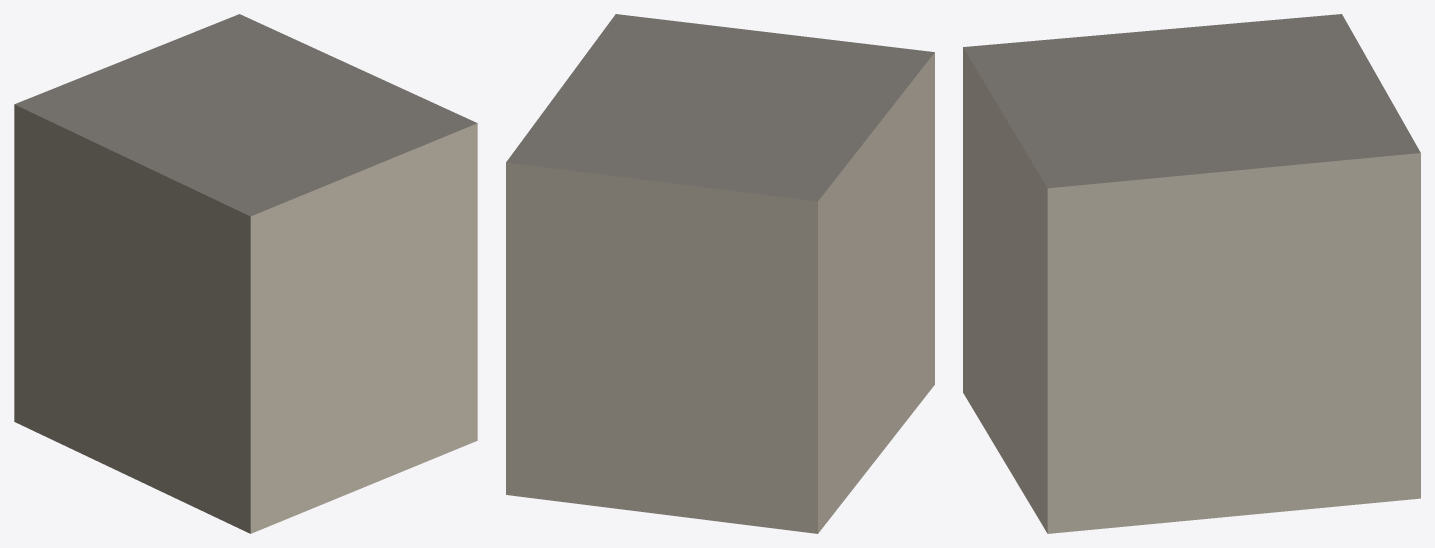
The picture shows the model from 3 angles, left to right: view 1: azimuth 30°, elevation 25°; view 2: azimuth 150°, elevation 25°; view 3: azimuth 270°, elevation 25°; orthographic projection. The views are drawn at different scales.
Parts seen in each view (by area): view 1: HP-w1197047254; view 2: HP-w1197047254; view 3: HP-w1197047254.
Part boxes in pixels (x1,y1,x2,y2): HP-w1197047254: [14, 14, 477, 533]; HP-w1197047254: [506, 14, 934, 533]; HP-w1197047254: [963, 14, 1420, 533].
Size of the model in its own units: 19.48 by 18 by 21.61.
